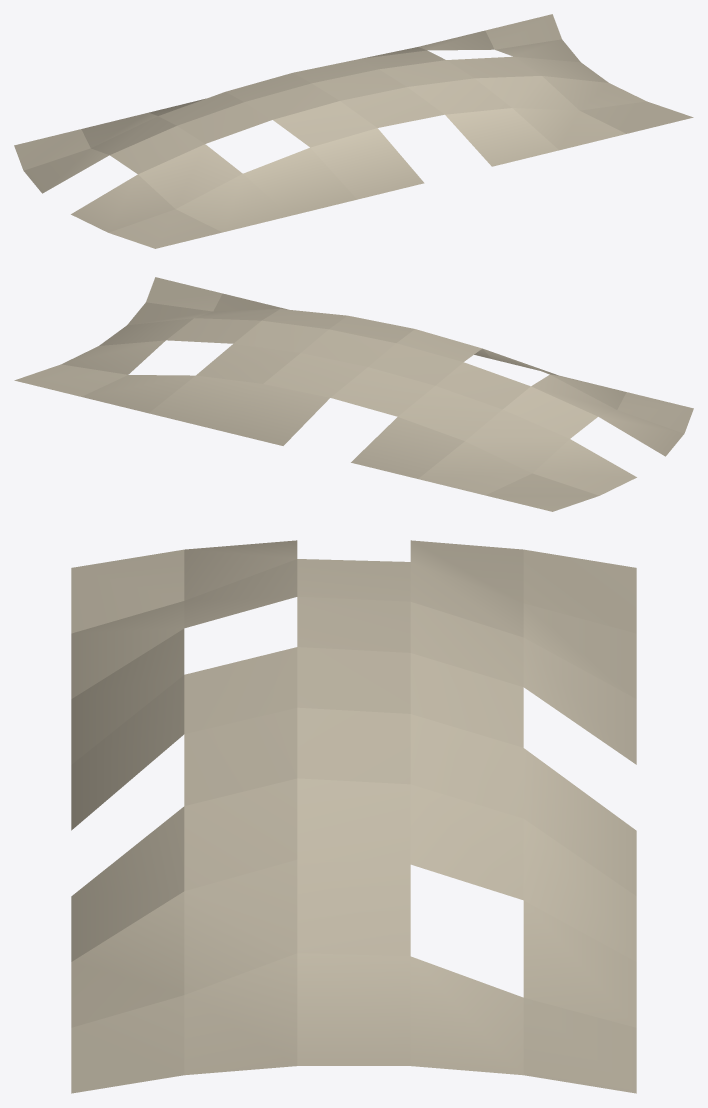
File: drift_1.glb
3 renders of one model, top to bottom at view 1: azimuth 30°, elevation 25°; view 2: azimuth 150°, elevation 25°; view 3: azimuth 270°, elevation 25°, orthographic. The views are drawn at different scales.
Parts seen in each view (by area): view 1: drift_1; view 2: drift_1; view 3: drift_1.
Boxes of the visible parts, box(x1,y1,x2,y2) form: drift_1: box(14, 14, 693, 248); drift_1: box(14, 277, 693, 511); drift_1: box(71, 540, 636, 1093).
Bounding box in the file's own units: 11.58 × 0.9321 × 5.
